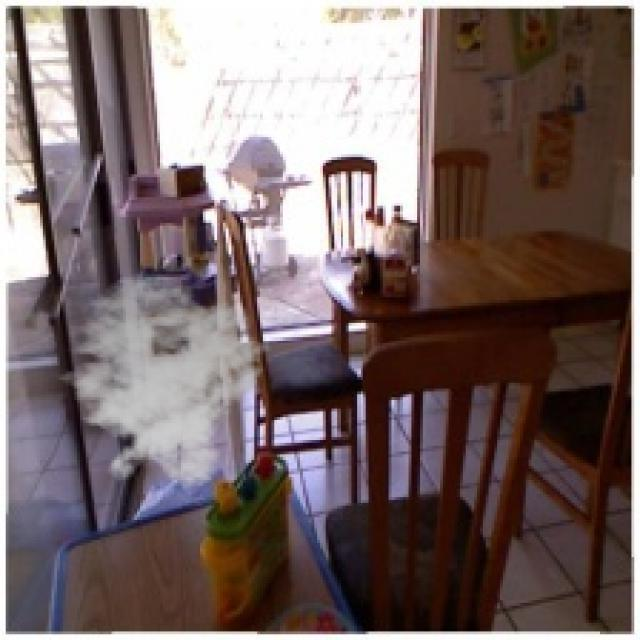Smoke: (45, 272, 272, 488)
